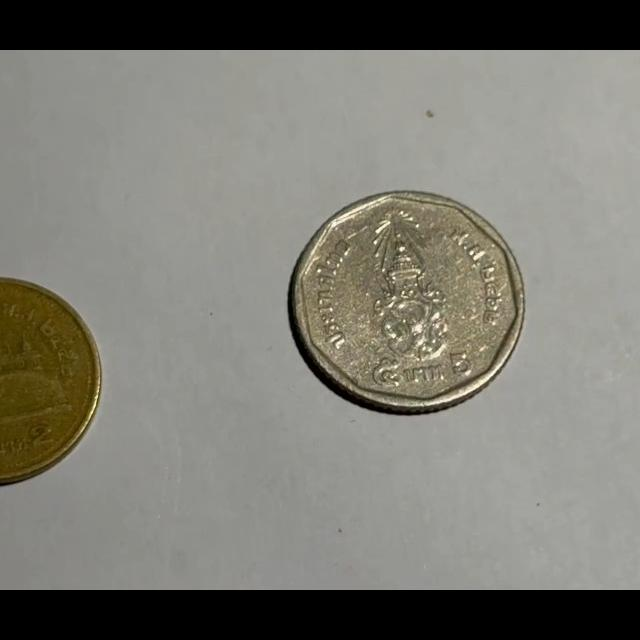2-baht: (0, 278, 99, 485)
5-baht: (289, 189, 525, 412)
